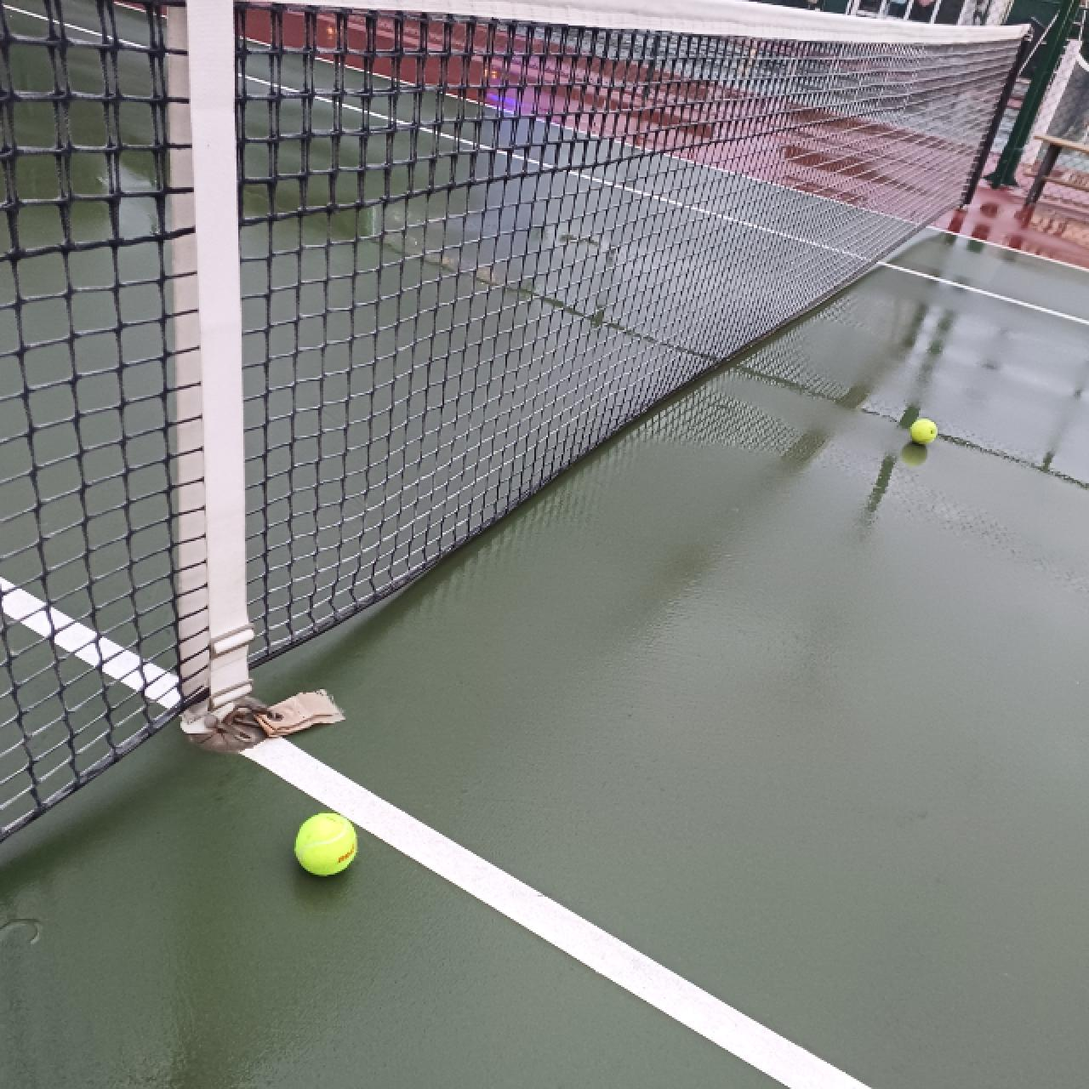tennis-ball: (294, 812, 358, 876), (909, 418, 937, 445)
